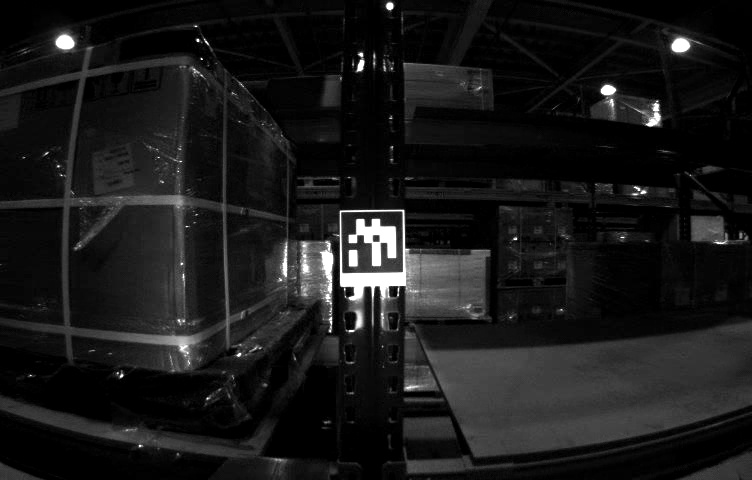True Barcode: (93, 141, 130, 199)
